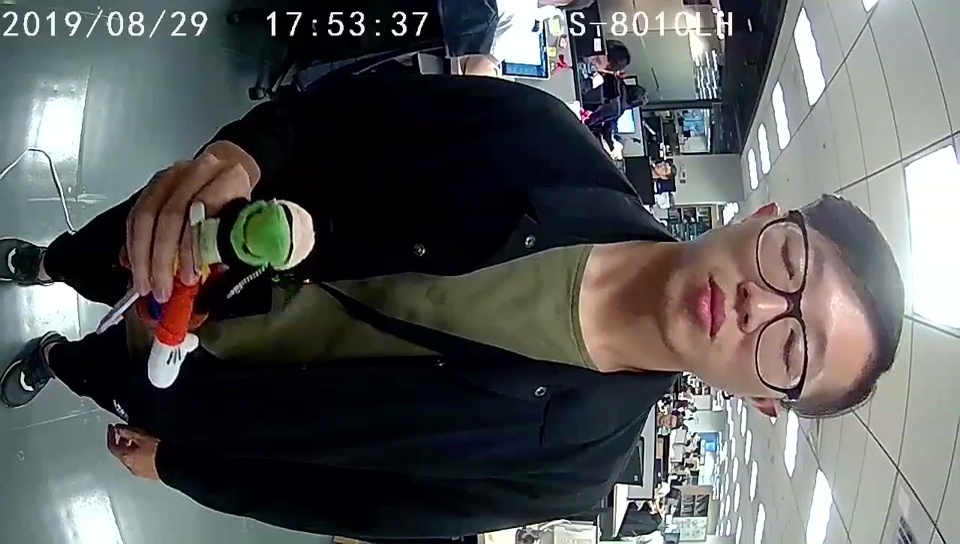goofy: (145, 194, 316, 387)
